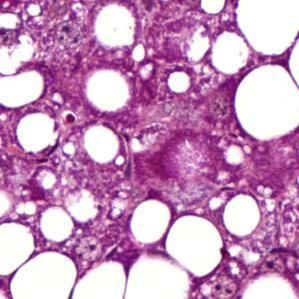steatosis: (223, 197, 267, 240), (131, 196, 167, 244), (84, 123, 122, 166), (168, 68, 195, 95)
